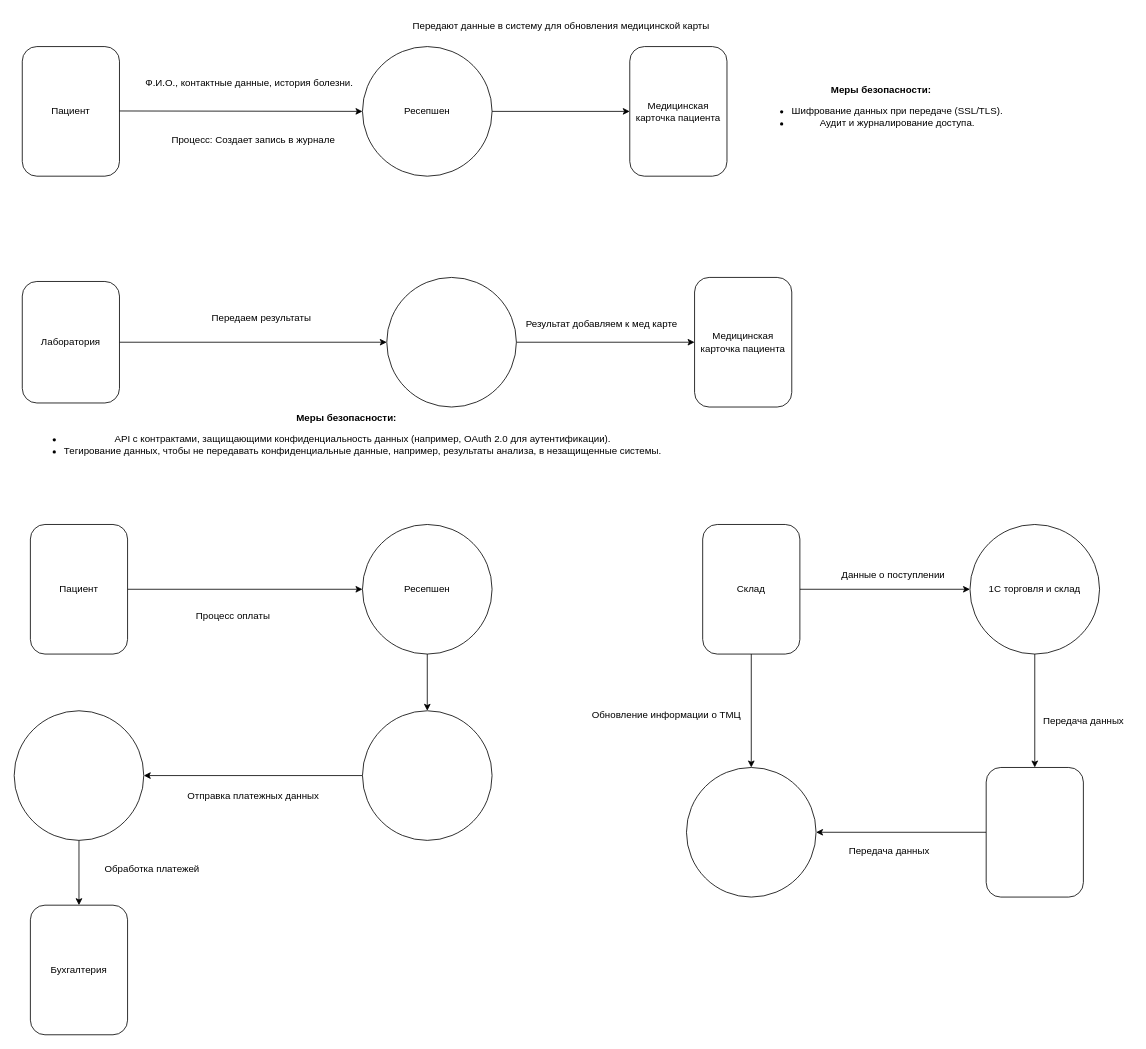
Some shapes in this 1146 by 1049 pixel diagram are drawn without their labels. The shapes that lost their labels are listed below. From the top down, each one's centre as x and y in pixels, then its label:
At point (451, 342): "Лабораторные результаты API".
At point (78, 775): "1С Бухгалтерия".
At point (427, 775): "Платежная система (внешняя система)".
At point (751, 832): "Обновление учета ТМЦ".
At point (1034, 832): "Бухгалтерия (учет закупок)".
